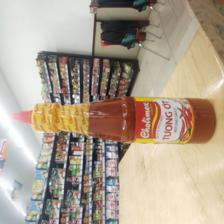Tuong: (6, 94, 217, 147)
